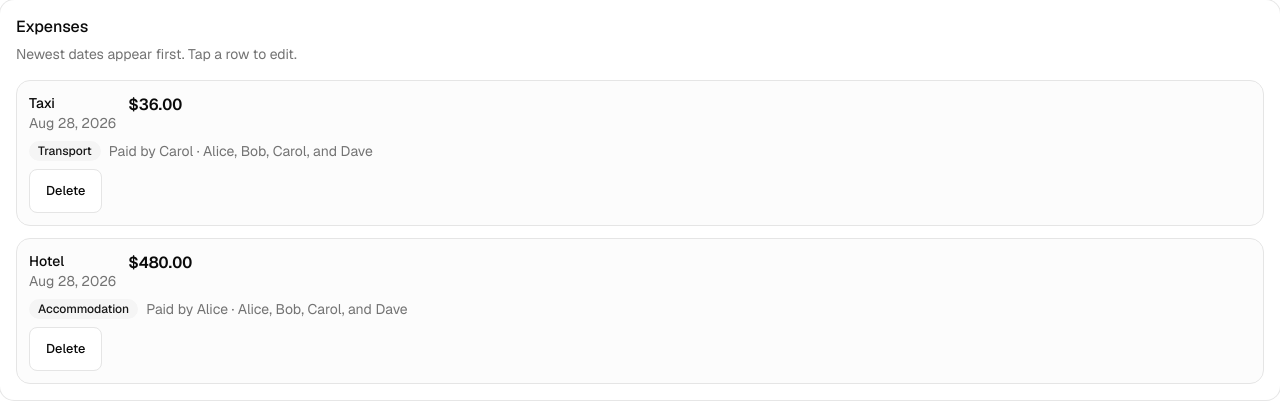
it: ExpenseList undo › restores a deleted expense when Undo is pressed
This screenshot has width=1280, height=420.
Click the 1st button "Delete".
click(66, 191)  # box [29,169,102,213]
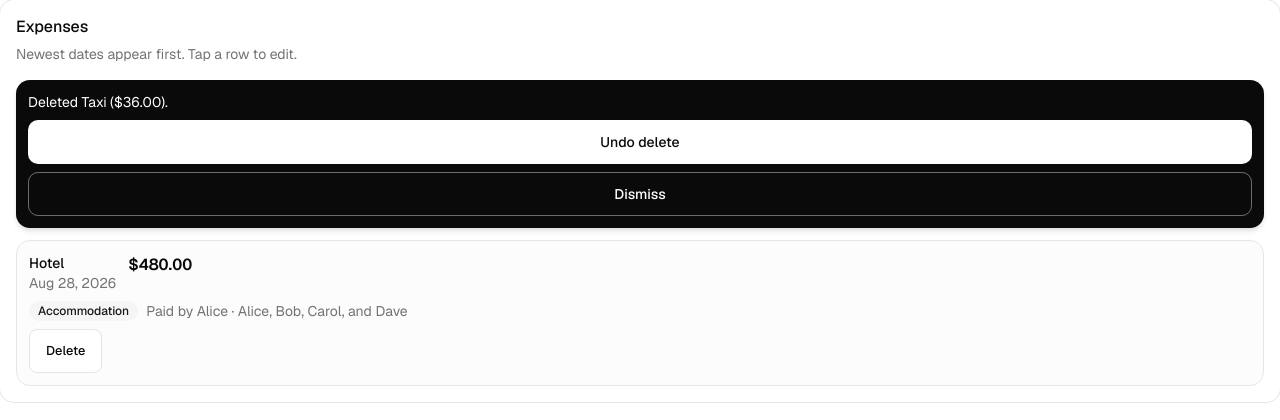
Check: the text "Deleted Taxi" is shown, box [28,93,168,111]
Check: the button "Undo delete" is shown
Click the button "Undo delete".
click(640, 142)  # box [28,120,1252,164]
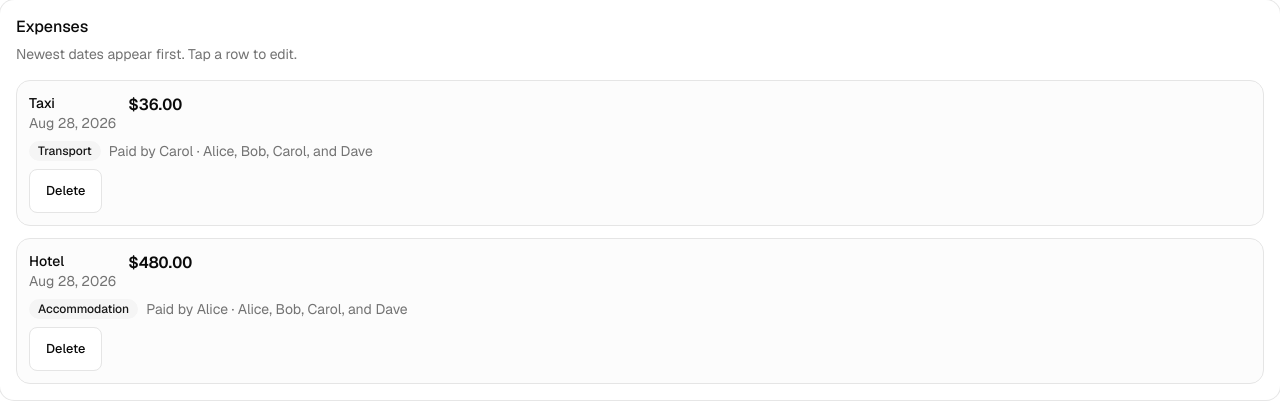
Check: the text "Taxi" is shown, box [29,94,55,112]
Check: the text "Deleted Taxi" is gone
